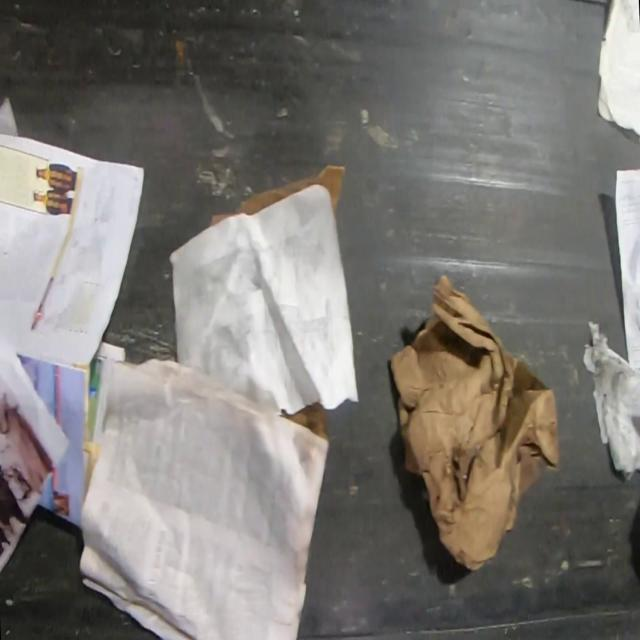cardboard: (390, 277, 563, 568), (248, 165, 349, 234), (278, 403, 329, 439)
